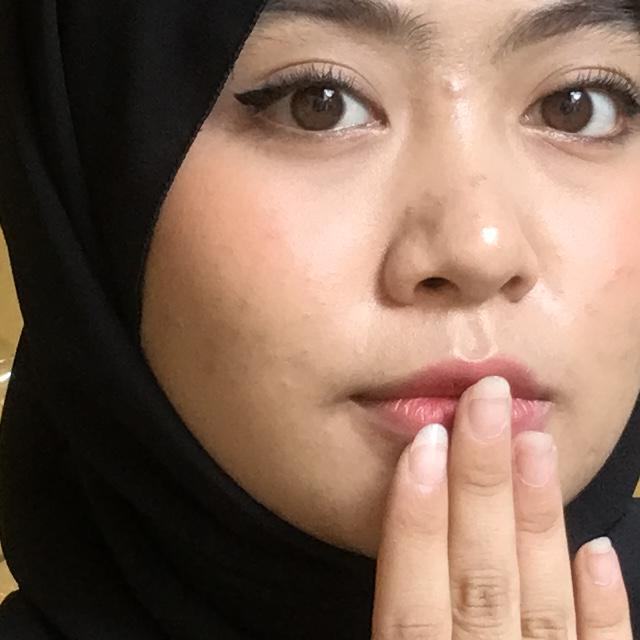ganteng: (170, 326, 640, 640)
